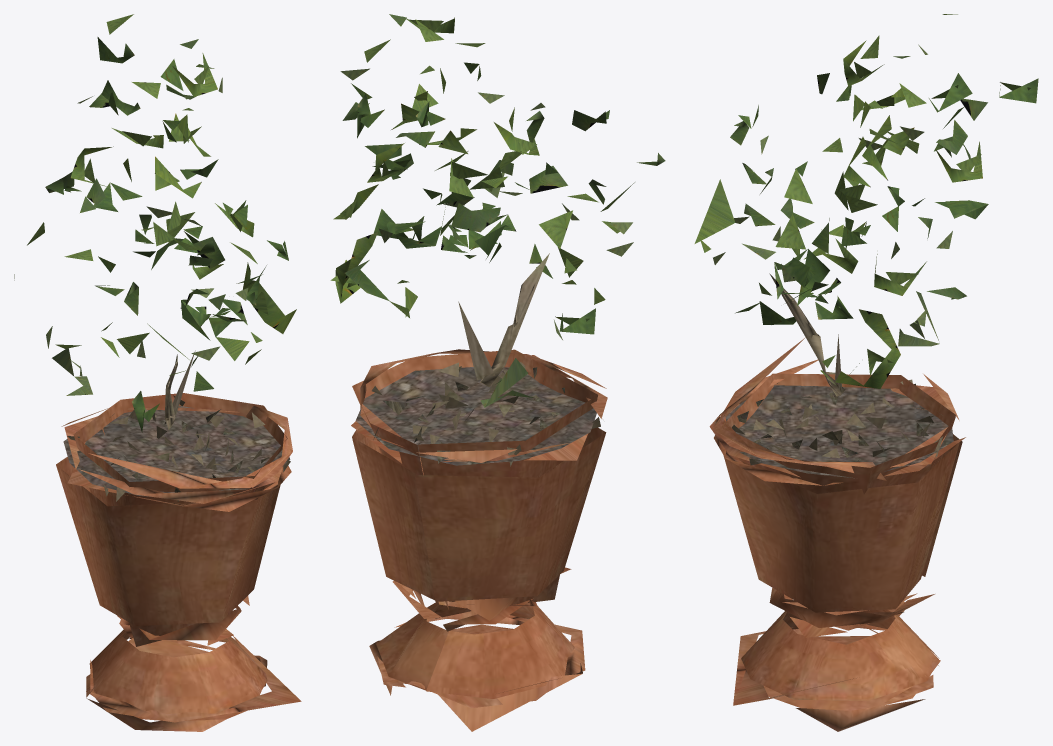
The model's file is ph_potted_plant_01.glb.
3 views of the same model, side by side, from view 1: azimuth 30°, elevation 25°; view 2: azimuth 150°, elevation 25°; view 3: azimuth 270°, elevation 25° (orthographic). The views are drawn at different scales.
Parts seen in each view (by area): view 1: potted_plant_01_stem; view 2: potted_plant_01_stem; view 3: potted_plant_01_stem.
Part boxes in pixels (x1,y1,x2,y2): potted_plant_01_stem: [14, 14, 301, 731]; potted_plant_01_stem: [330, 14, 665, 731]; potted_plant_01_stem: [694, 14, 1038, 731].
Size of the model in its own units: 0.6035 by 1.37 by 0.6265.
2 materials, 2 textured.
